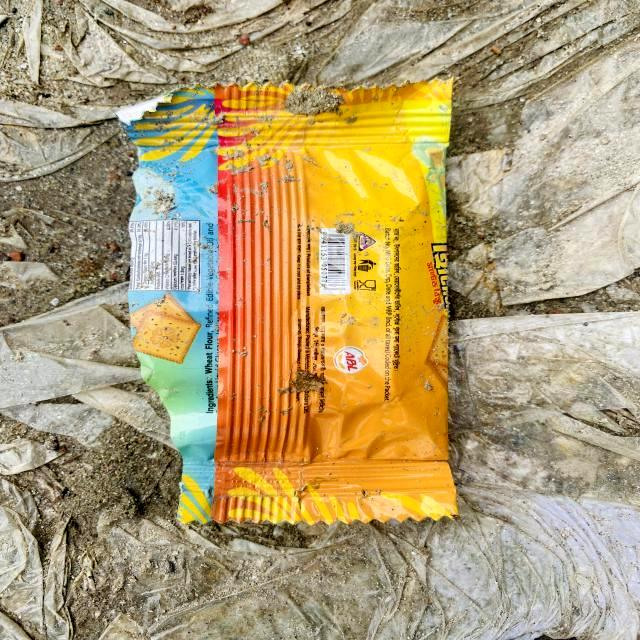packet: (113, 76, 479, 524)
